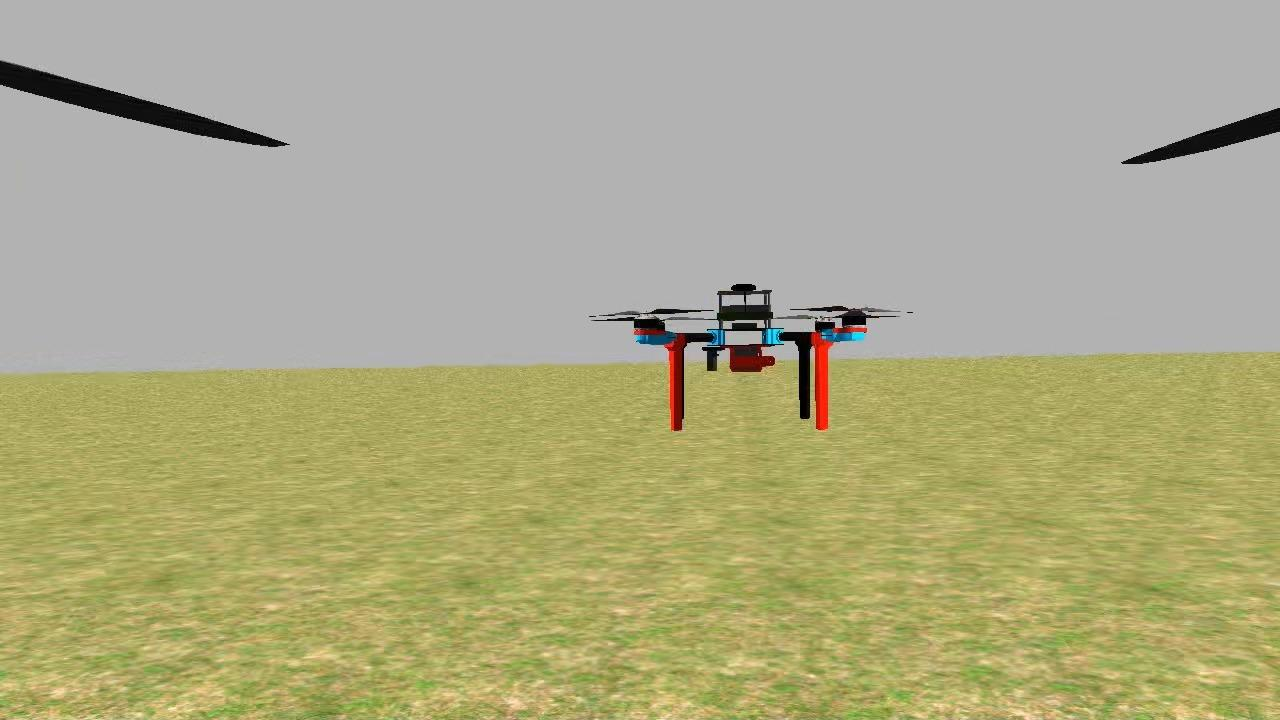UAV: (620, 270, 875, 444)
